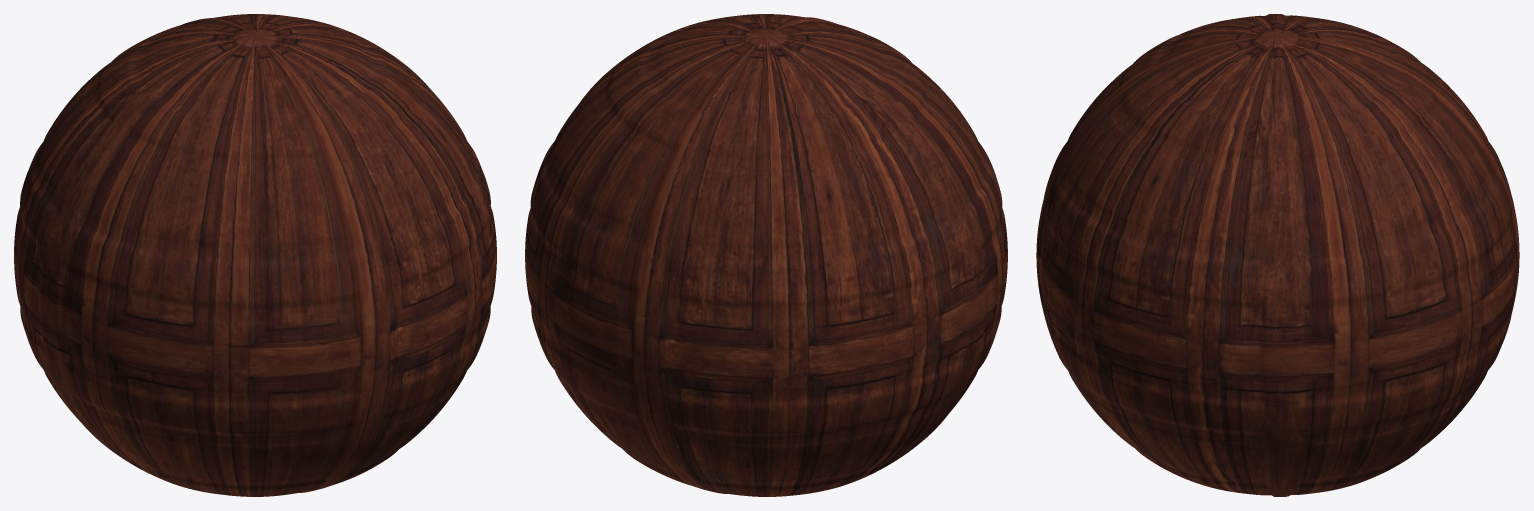
File: wooden_panels_1k.gltf
The picture shows the model from 3 angles, left to right: view 1: azimuth 30°, elevation 25°; view 2: azimuth 150°, elevation 25°; view 3: azimuth 270°, elevation 25°; orthographic projection.
Parts seen in each view (by area): view 1: sphere_gltf; view 2: sphere_gltf; view 3: sphere_gltf.
Boxes of the visible parts, bbox=[...] form: sphere_gltf: bbox=[14, 14, 496, 496]; sphere_gltf: bbox=[525, 14, 1007, 496]; sphere_gltf: bbox=[1036, 14, 1519, 496].
Bounding box in the file's own units: 2.1 × 2.11 × 2.1.
1 material, 1 textured.
